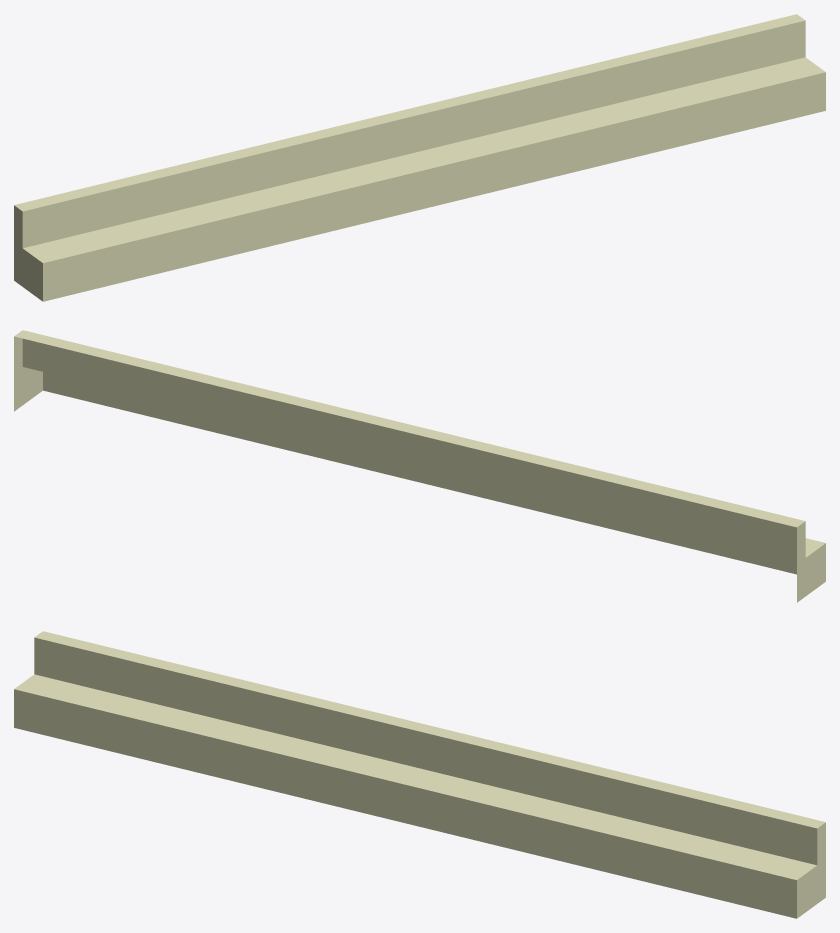
File: Model_BankLowPoly.fbx
3 views of the same model, one above another, from view 1: azimuth 30°, elevation 25°; view 2: azimuth 150°, elevation 25°; view 3: azimuth 330°, elevation 25° (orthographic).
Visible parts, largest first — view 1: Model_Arena_Bank_Lowpoly; view 2: Model_Arena_Bank_Lowpoly; view 3: Model_Arena_Bank_Lowpoly.
Boxes of the visible parts, x1,y1,x2,y2 form: Model_Arena_Bank_Lowpoly: [14, 14, 825, 301]; Model_Arena_Bank_Lowpoly: [14, 330, 825, 602]; Model_Arena_Bank_Lowpoly: [14, 631, 825, 918].
Size of the model in its own units: 11.68 by 1.07 by 0.75.
